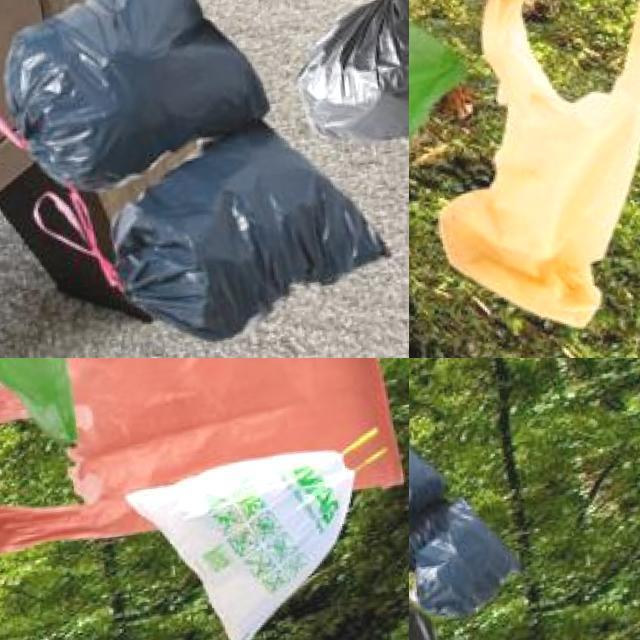waste: (427, 0, 640, 333), (121, 118, 395, 336), (0, 0, 295, 198), (123, 443, 375, 640), (409, 0, 482, 233), (292, 0, 409, 144), (409, 511, 518, 617), (409, 426, 442, 538)
